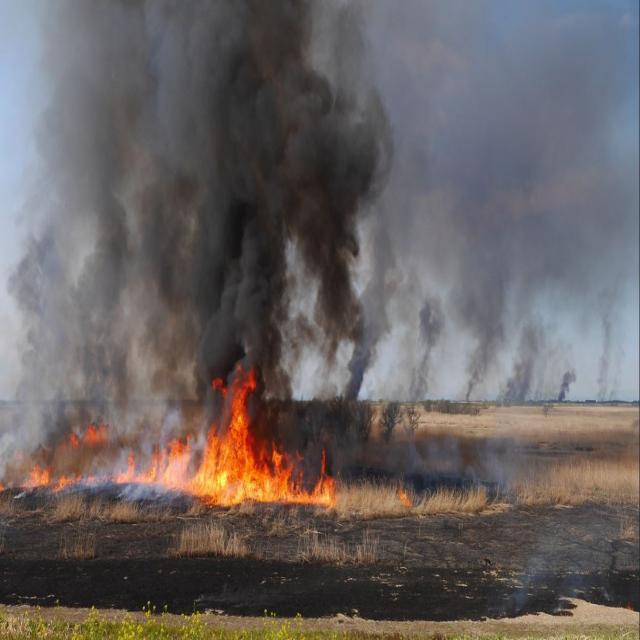Fire: (124, 340, 340, 510), (60, 409, 109, 449), (17, 468, 92, 494), (394, 482, 414, 512)
